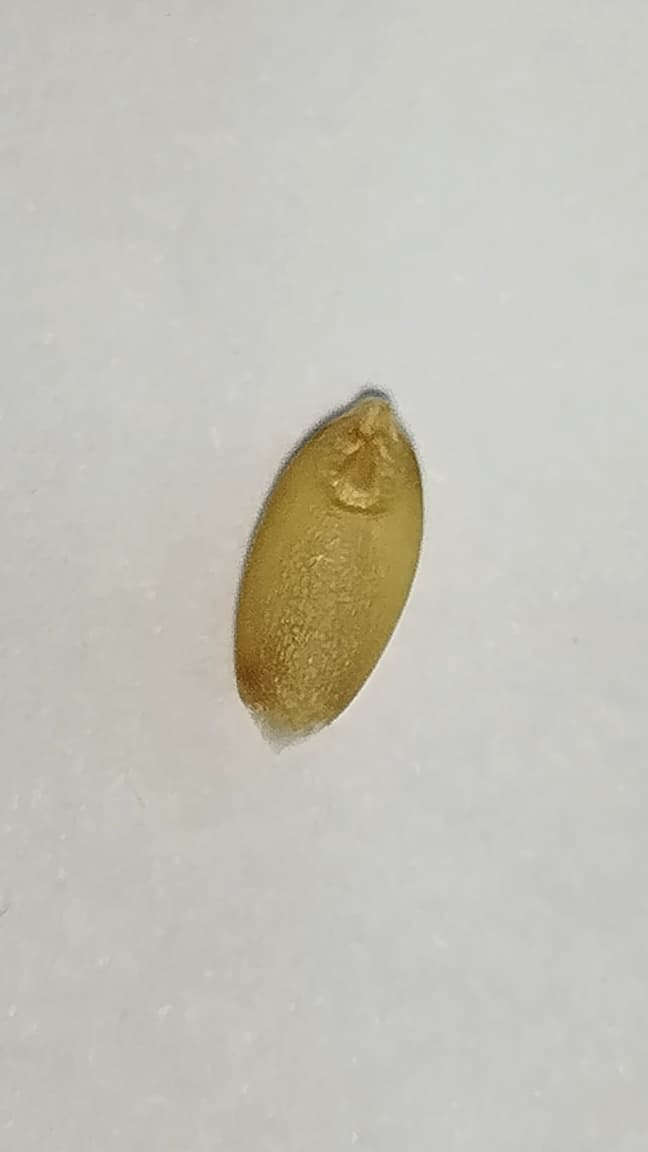healthy: (233, 388, 423, 746)
